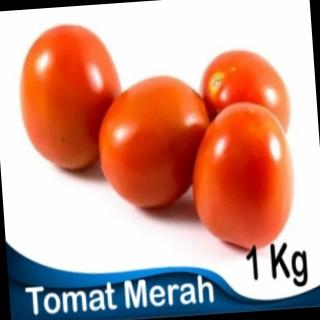Tomat: (15, 20, 127, 175), (187, 99, 299, 254), (94, 71, 216, 213), (197, 46, 293, 140)
